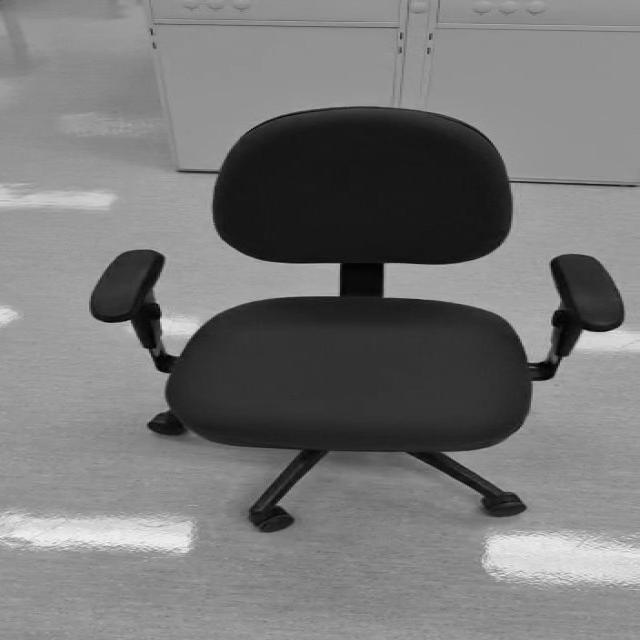cadeira-azul: (92, 107, 626, 531)
